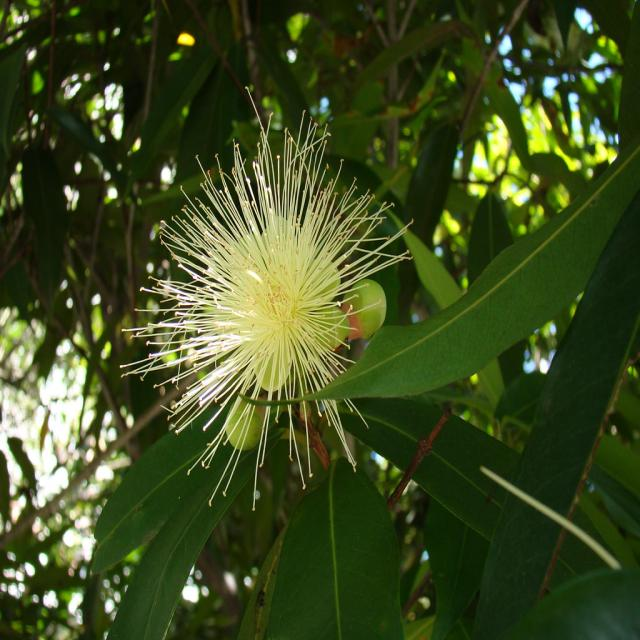Medicinal-Rose Apple: (31, 10, 640, 640)
